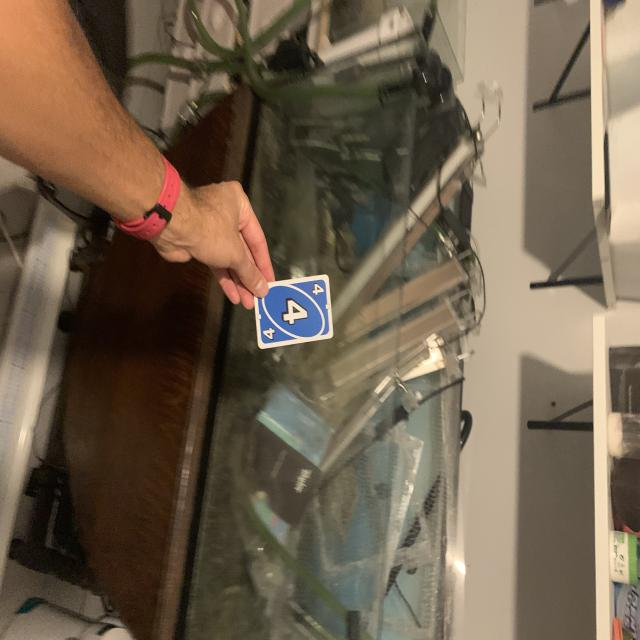lblue-4: (308, 277, 327, 303)
